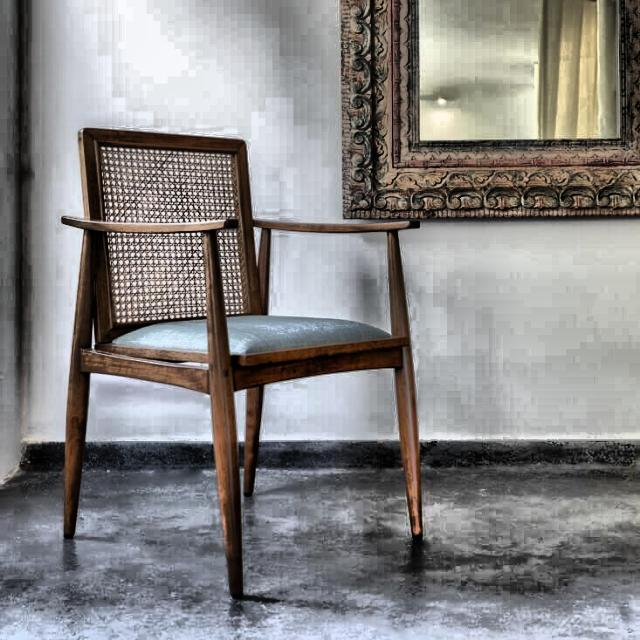cadeira: (65, 120, 433, 602)
